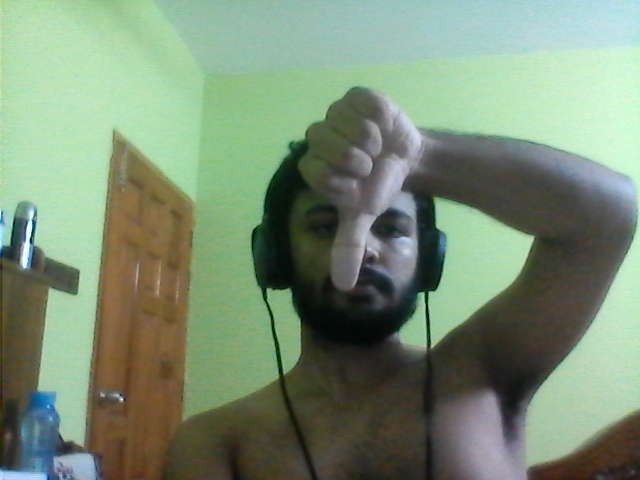No: (299, 76, 427, 295)
